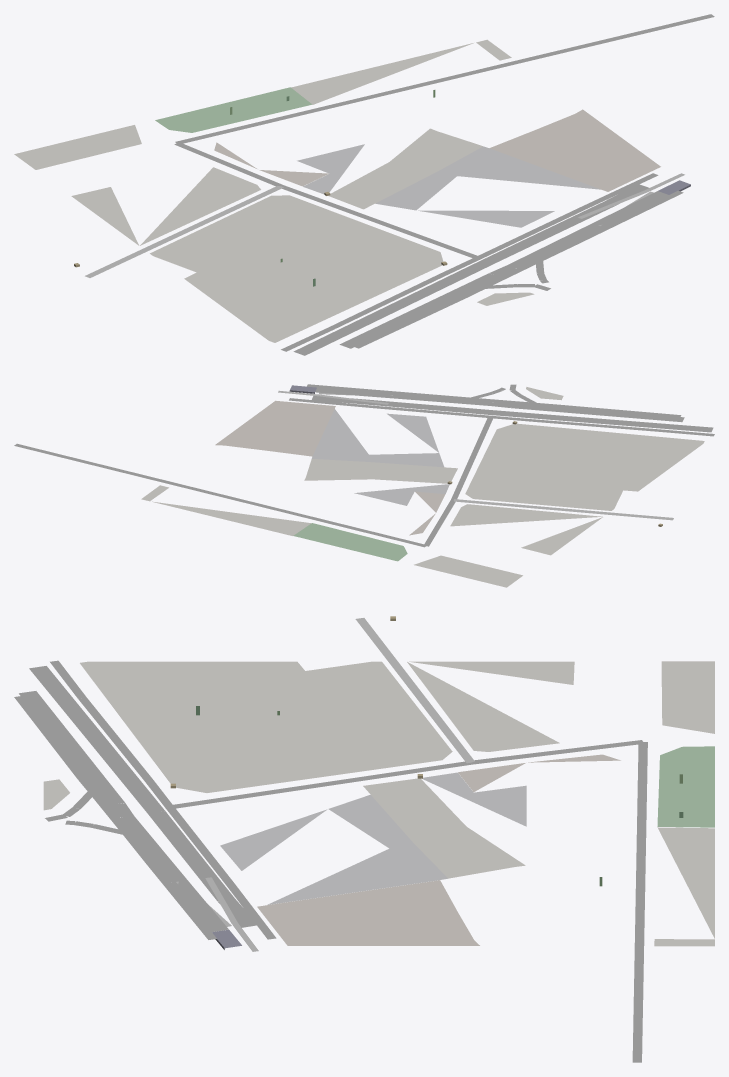
The picture shows the model from 3 angles, top to bottom: view 1: azimuth 30°, elevation 25°; view 2: azimuth 150°, elevation 25°; view 3: azimuth 270°, elevation 25°; orthographic projection. The views are drawn at different scales.
Size of the model in its own units: 782 by 10.34 by 522.
